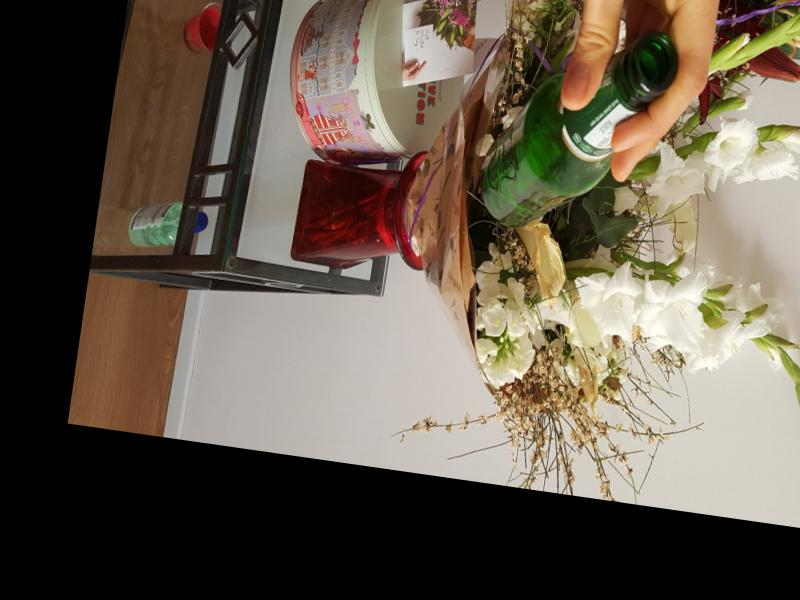Beer: (475, 13, 682, 245)
